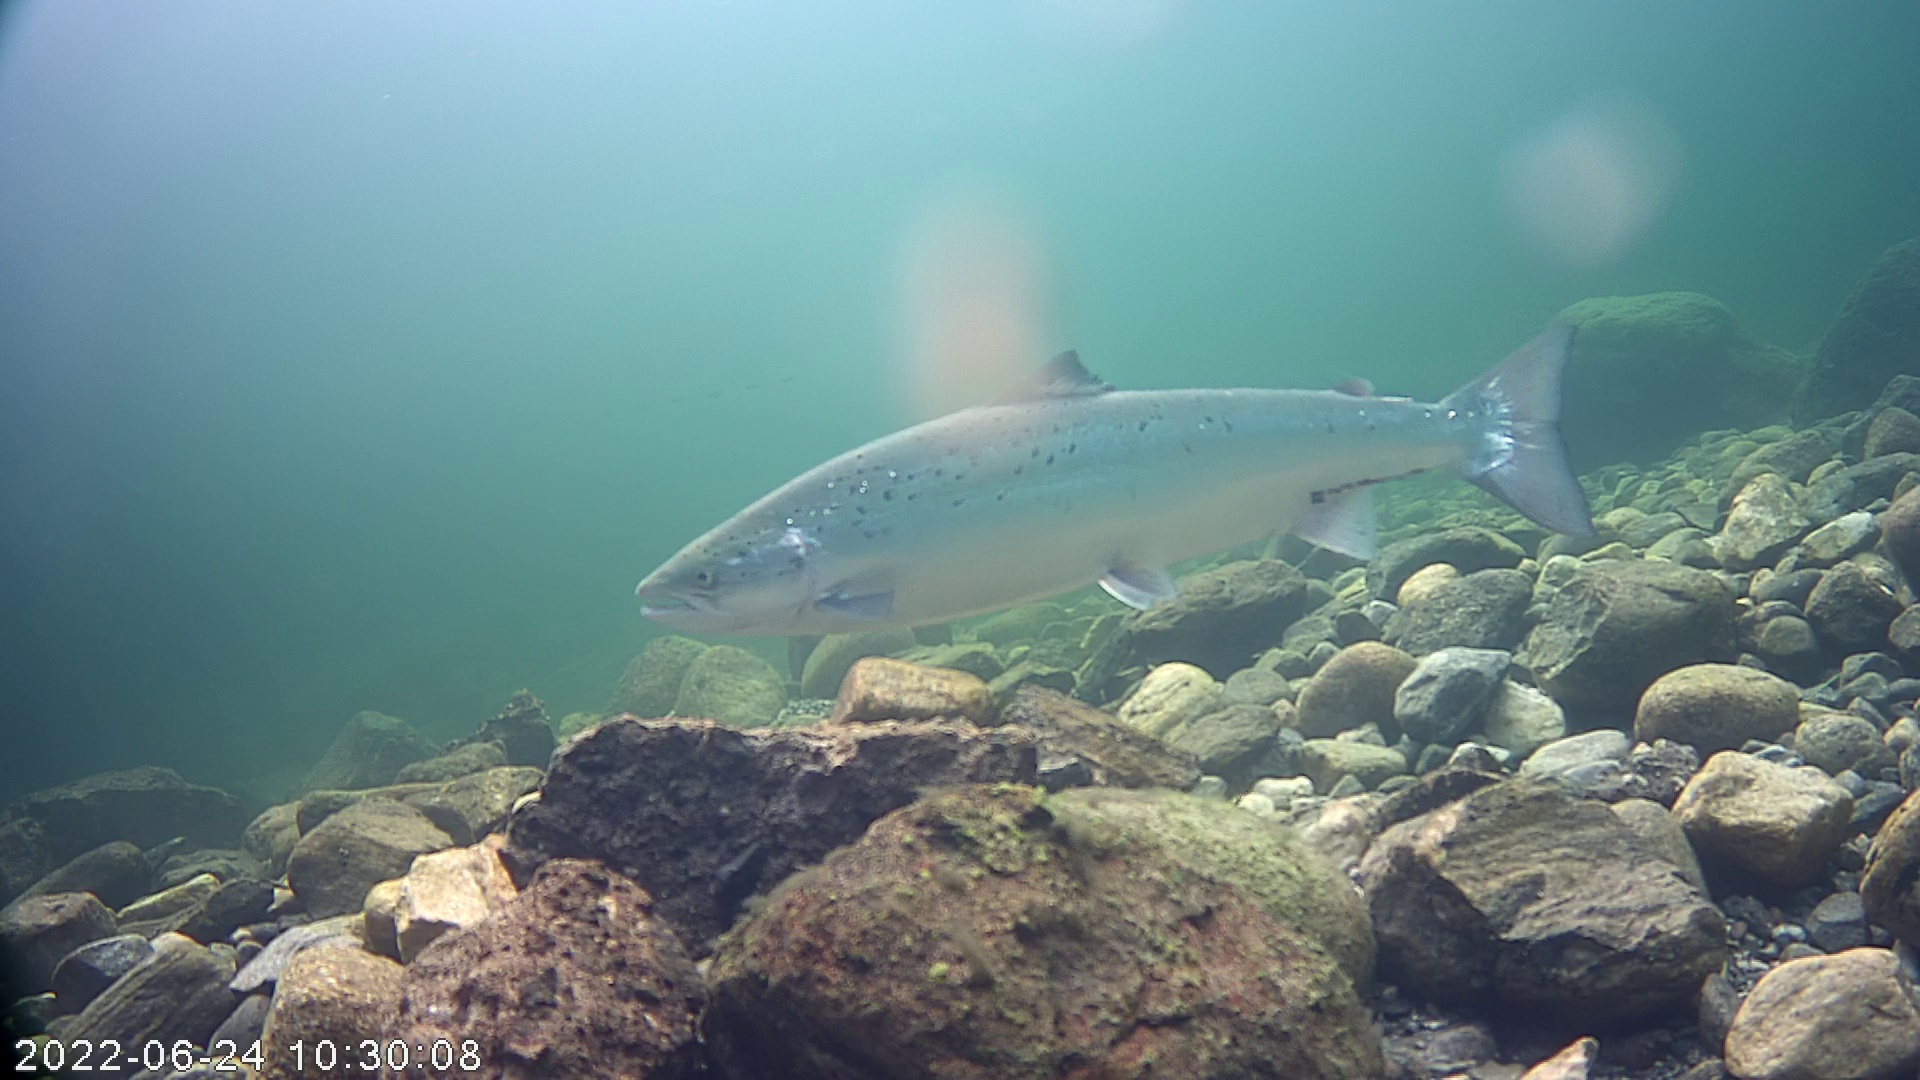salmon: (632, 320, 1604, 646)
